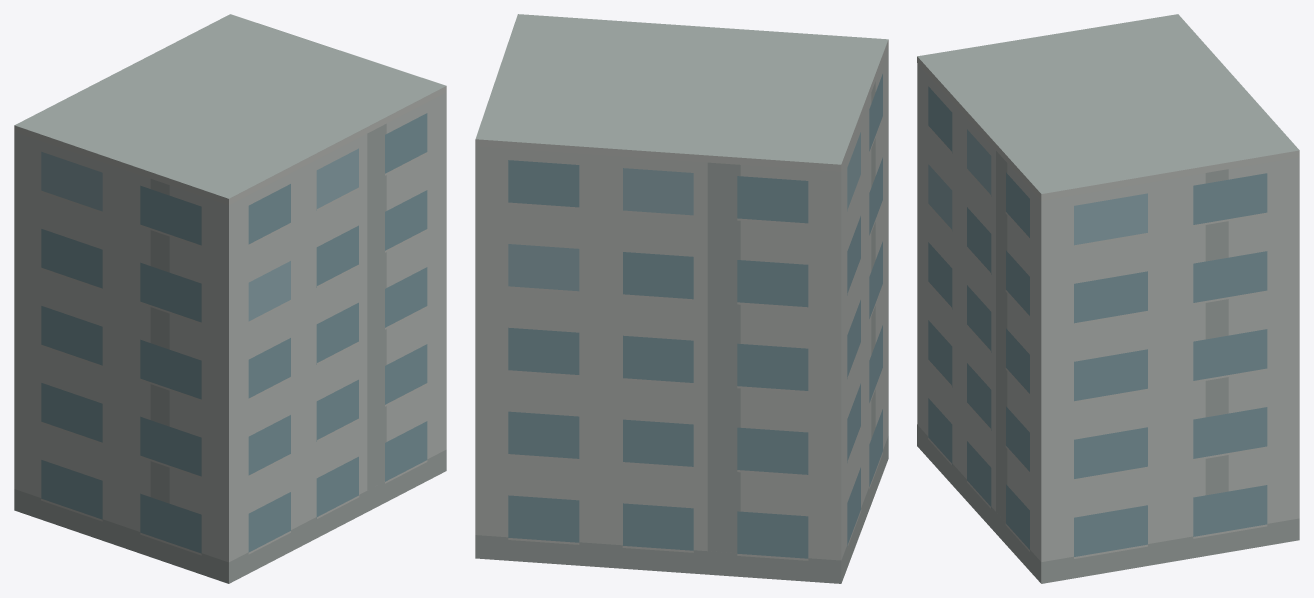
Rendered from survey-upis-32842417.glb.
3 views of the same model, side by side, from view 1: azimuth 30°, elevation 25°; view 2: azimuth 150°, elevation 25°; view 3: azimuth 270°, elevation 25° (orthographic). The views are drawn at different scales.
Visible parts, largest first — view 1: survey-upis-32842417.tmp; view 2: survey-upis-32842417.tmp; view 3: survey-upis-32842417.tmp.
Part boxes in pixels (<box>): survey-upis-32842417.tmp: <box>14,14,446,583</box>; survey-upis-32842417.tmp: <box>475,14,888,583</box>; survey-upis-32842417.tmp: <box>917,14,1299,583</box>.
Bounding box in the file's own units: 14.13 × 14.25 × 12.68.
